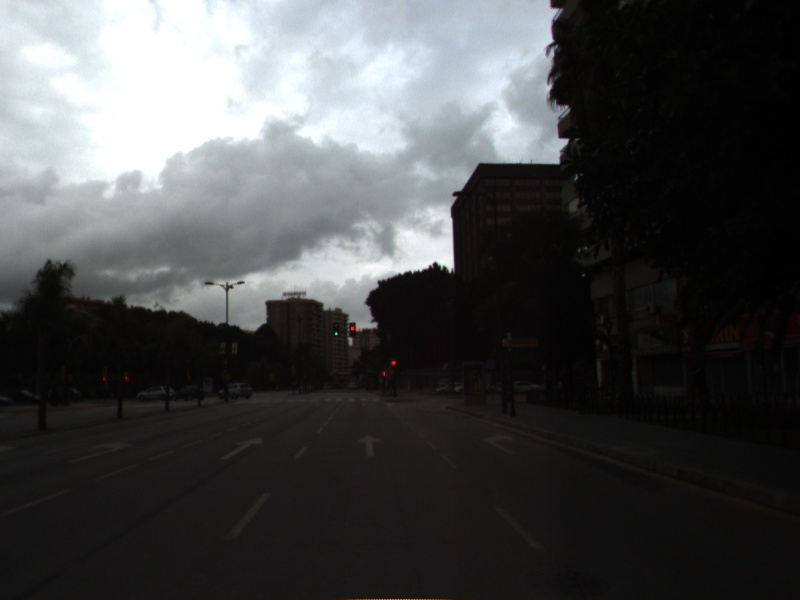LEFT: (66, 439, 134, 464)
RIGHT: (480, 430, 519, 457)
STRAIGHT: (217, 435, 265, 462), (353, 433, 385, 458)
